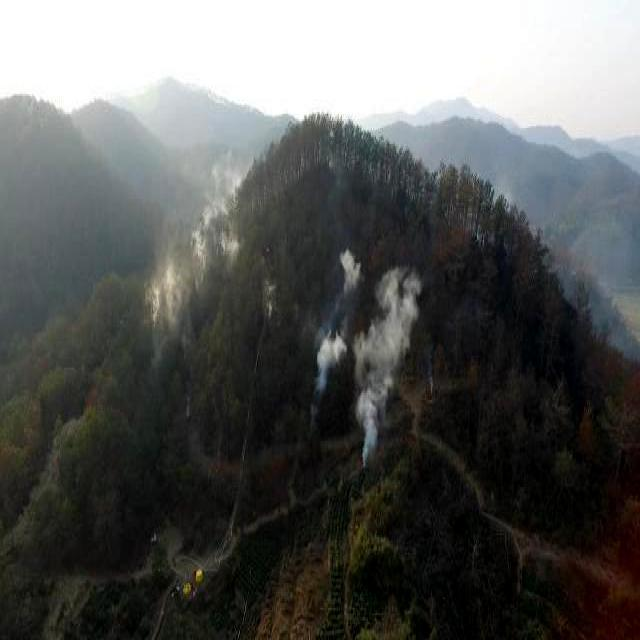Smoke: (144, 138, 264, 372), (306, 251, 424, 443)
